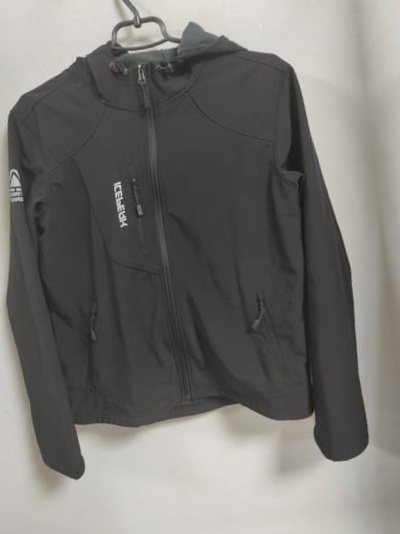Hoodie: (0, 6, 384, 501), (381, 0, 400, 454)
